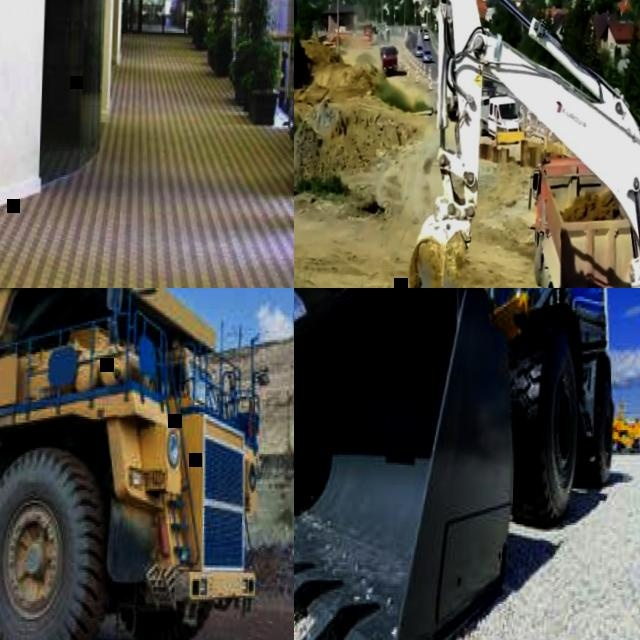machinery: (294, 288, 627, 640), (0, 288, 273, 640), (403, 0, 640, 288), (525, 148, 637, 288), (379, 44, 398, 76)
vehicle: (489, 95, 519, 142), (479, 94, 490, 134), (423, 48, 432, 62), (414, 44, 423, 56), (423, 32, 429, 40)
